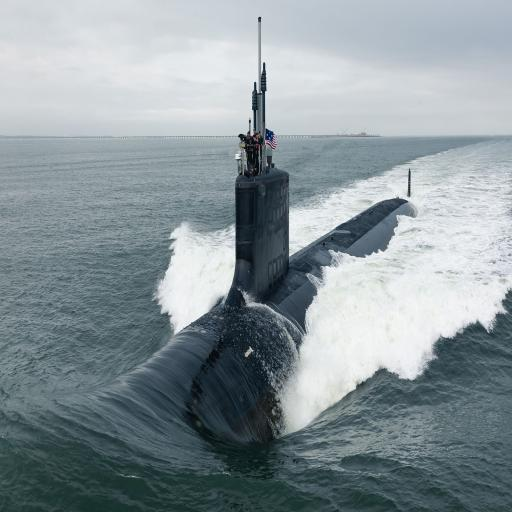submarine: (132, 14, 420, 453)
